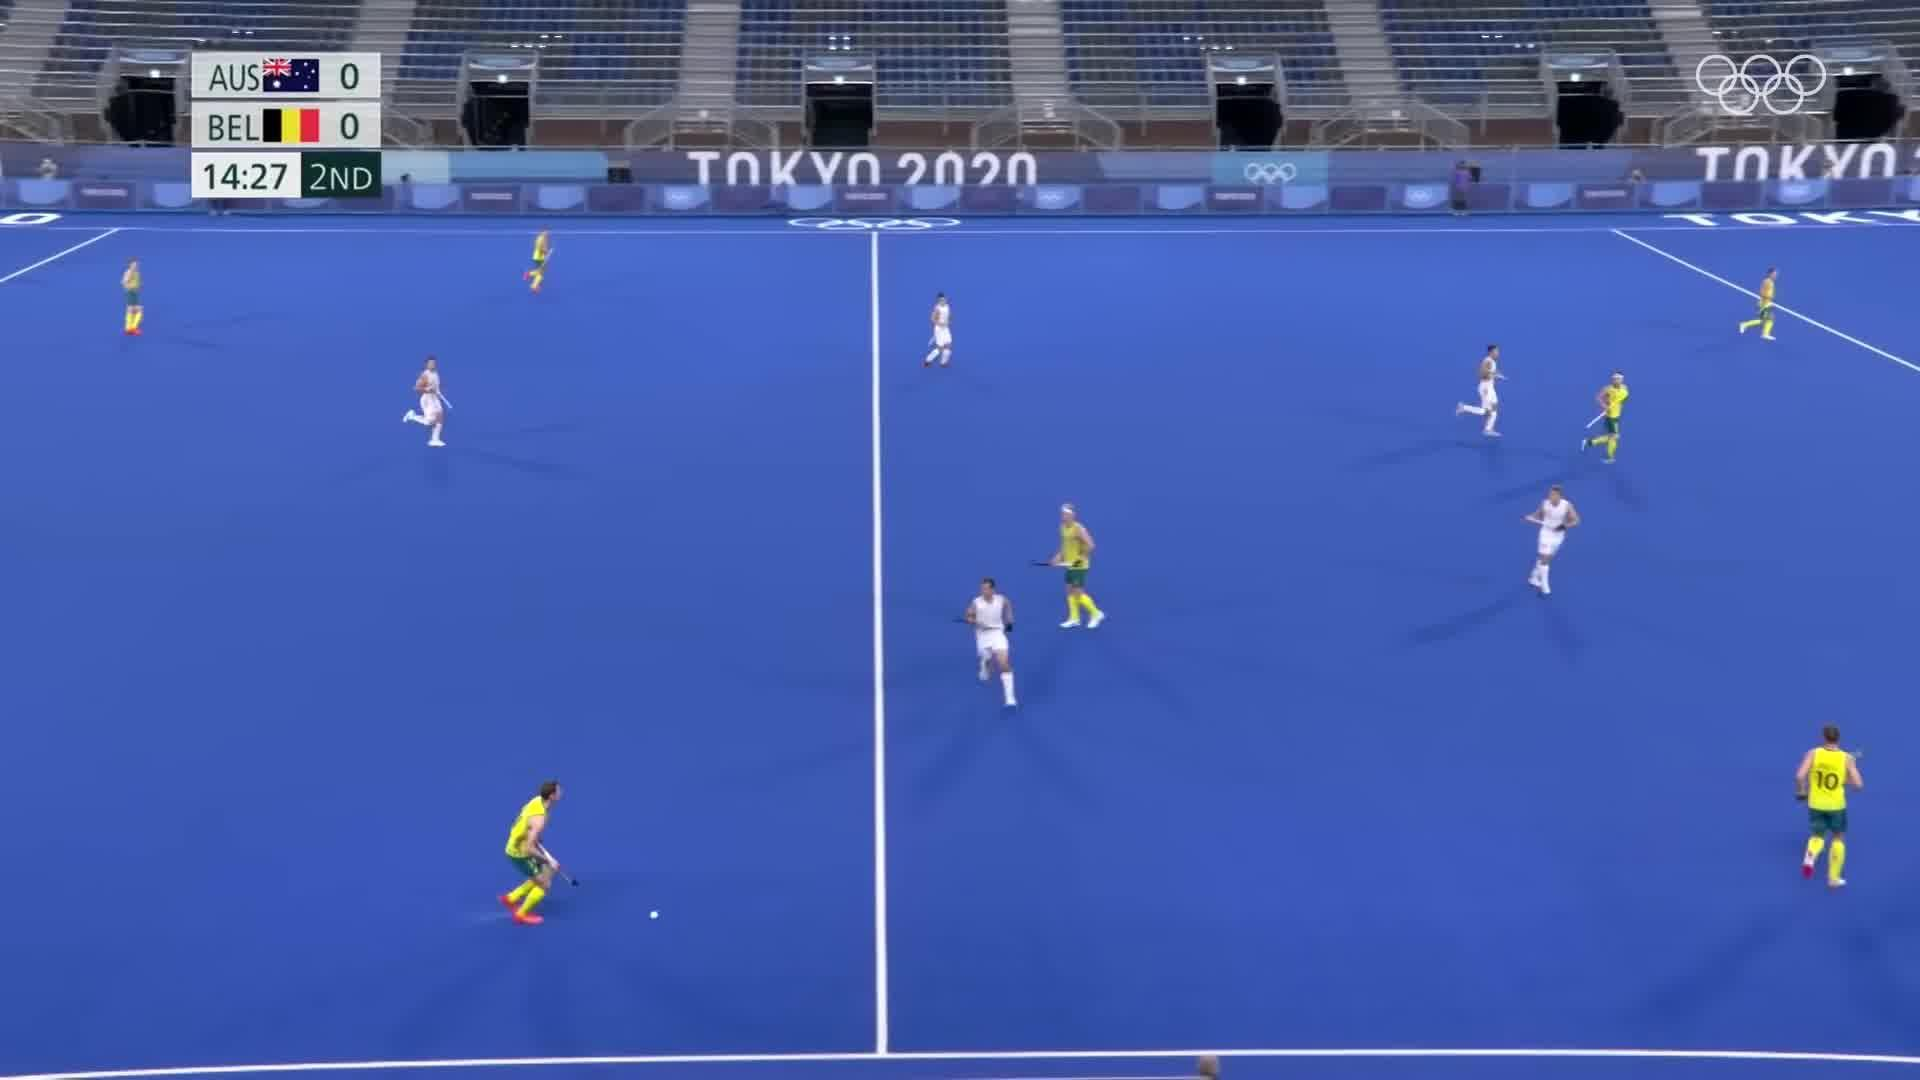ball: (645, 901, 663, 927)
